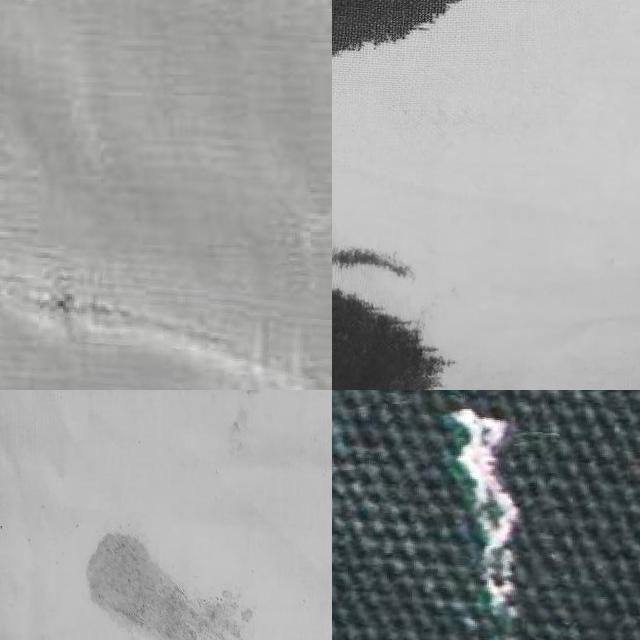Thread_other: (50, 510, 332, 640), (332, 218, 479, 390), (176, 390, 332, 487), (332, 0, 498, 88)
stains: (332, 390, 640, 640), (0, 248, 332, 390)
